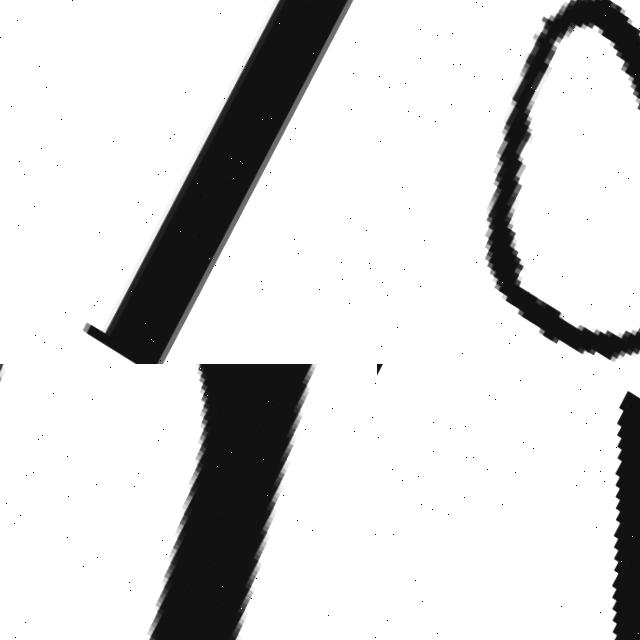7: (377, 364, 640, 640)
D: (377, 0, 640, 364)
L: (44, 0, 377, 364)
U: (0, 364, 377, 640)
